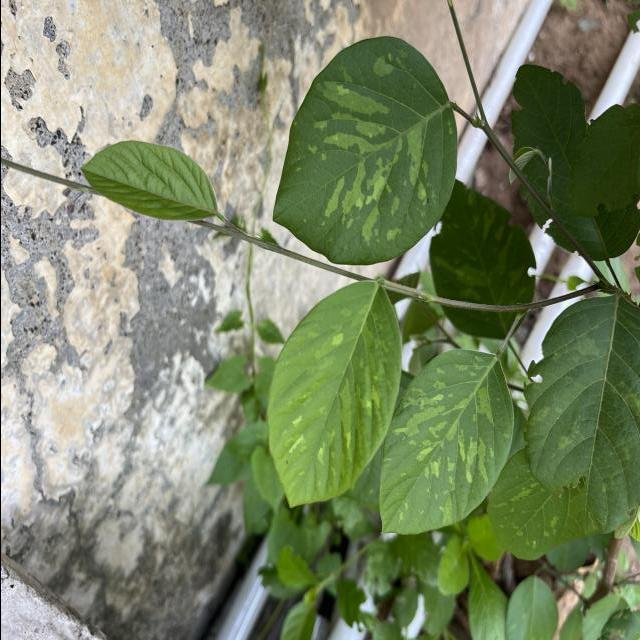Desmodium gangeticum: (270, 35, 460, 268), (376, 346, 516, 537)
